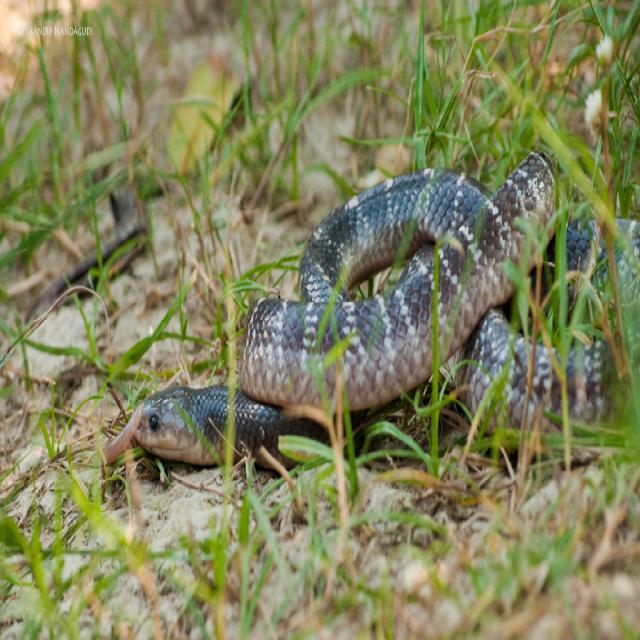Snake: (101, 148, 639, 474)
